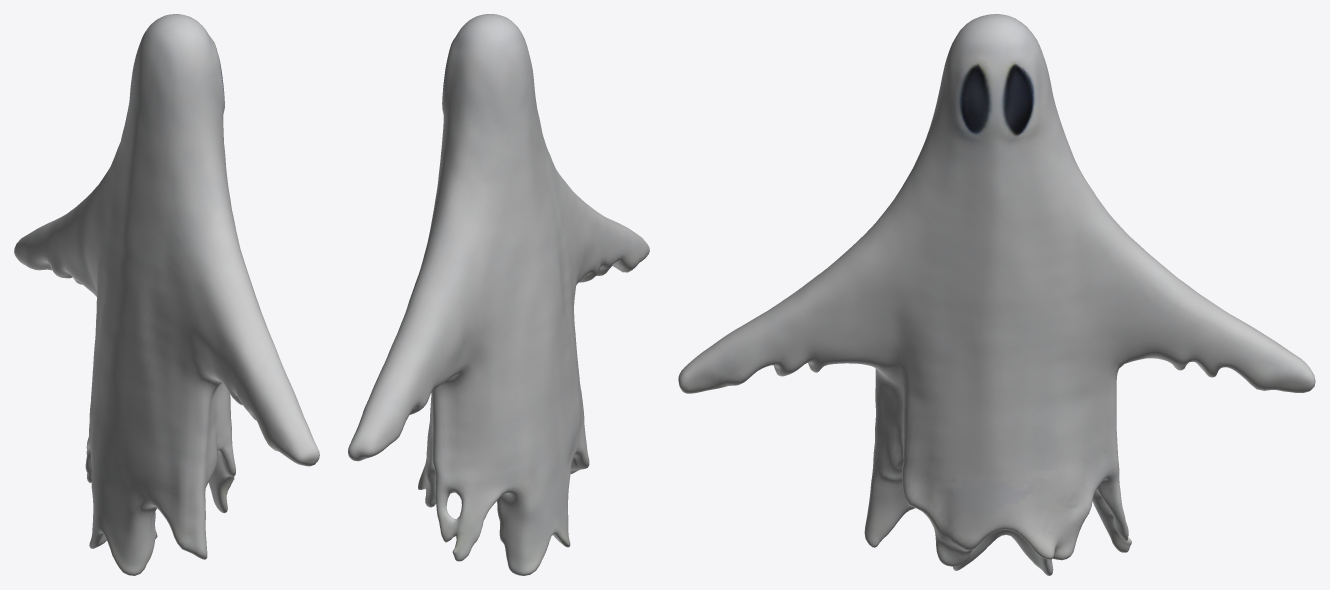
File: 7556ab9795b0_a_white_ghost_min.fbx
The picture shows the model from 3 angles, left to right: view 1: azimuth 30°, elevation 25°; view 2: azimuth 150°, elevation 25°; view 3: azimuth 270°, elevation 25°; orthographic projection. The views are drawn at different scales.
Parts seen in each view (by area): view 1: mesh; view 2: mesh; view 3: mesh.
Part boxes in pixels (bbox=[...]): mesh: bbox=[14, 14, 319, 575]; mesh: bbox=[348, 14, 649, 575]; mesh: bbox=[678, 14, 1315, 575].
Bounding box in the file's own units: 23.35 × 99.85 × 98.34.
